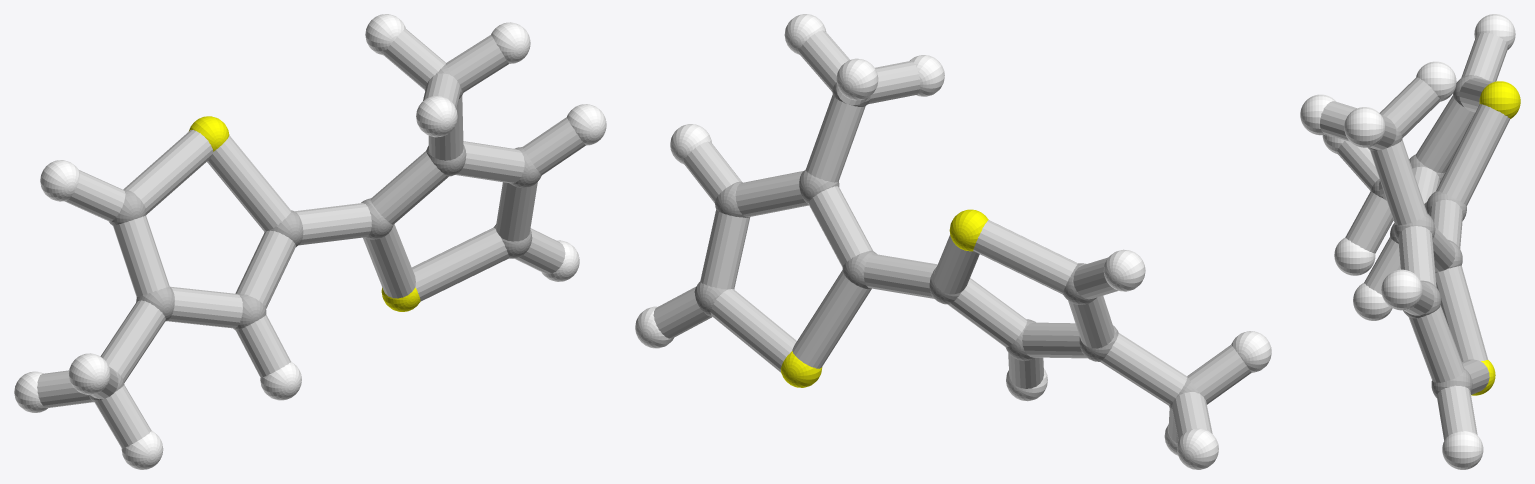
The model's file is color.glb.
3 renders of one model, left to right at view 1: azimuth 30°, elevation 25°; view 2: azimuth 150°, elevation 25°; view 3: azimuth 270°, elevation 25°, orthographic. The views are drawn at different scales.
Visible parts, largest first — view 1: grp7965, grp3621, grp1, grp7241; view 2: grp7965, grp3621, grp1, grp7241; view 3: grp7965, grp3621, grp1, grp7241.
Part boxes in pixels (x1,y1,x2,y2): grp7965: (37, 29, 585, 448); grp3621: (14, 14, 606, 469); grp1: (88, 64, 541, 401); grp7241: (188, 116, 420, 311); grp7965: (653, 30, 1251, 443); grp3621: (635, 14, 1271, 469); grp1: (694, 82, 1198, 411); grp7241: (781, 209, 988, 387); grp7965: (1320, 33, 1510, 440); grp3621: (1300, 14, 1515, 469); grp1: (1368, 75, 1485, 397); grp7241: (1471, 81, 1520, 395).
Bounding box in the file's own units: 9.42 × 5.6 × 3.21.
